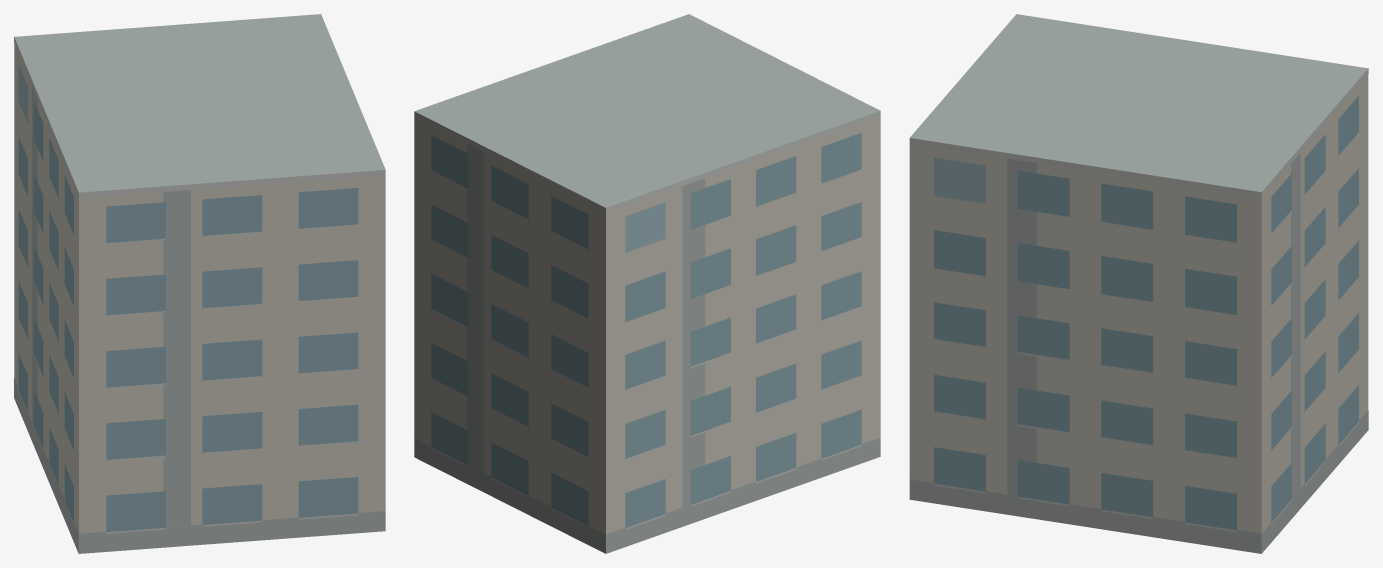
Rendered from residential-8d9e73aa-cd4b-4aa3-8e6f-62b362d999b4.glb.
3 renders of one model, left to right at view 1: azimuth 30°, elevation 25°; view 2: azimuth 150°, elevation 25°; view 3: azimuth 270°, elevation 25°, orthographic. The views are drawn at different scales.
Visible parts, largest first — view 1: residential-8d9e73aa-cd4b-4aa3-8e6f-62b362d999b4.tmp; view 2: residential-8d9e73aa-cd4b-4aa3-8e6f-62b362d999b4.tmp; view 3: residential-8d9e73aa-cd4b-4aa3-8e6f-62b362d999b4.tmp.
Part boxes in pixels (left/top/right/bottom): residential-8d9e73aa-cd4b-4aa3-8e6f-62b362d999b4.tmp: left=14, top=14, right=385, bottom=553; residential-8d9e73aa-cd4b-4aa3-8e6f-62b362d999b4.tmp: left=414, top=14, right=880, bottom=553; residential-8d9e73aa-cd4b-4aa3-8e6f-62b362d999b4.tmp: left=909, top=14, right=1368, bottom=553.
Bounding box in the file's own units: 16.12 × 15.25 × 17.54.
